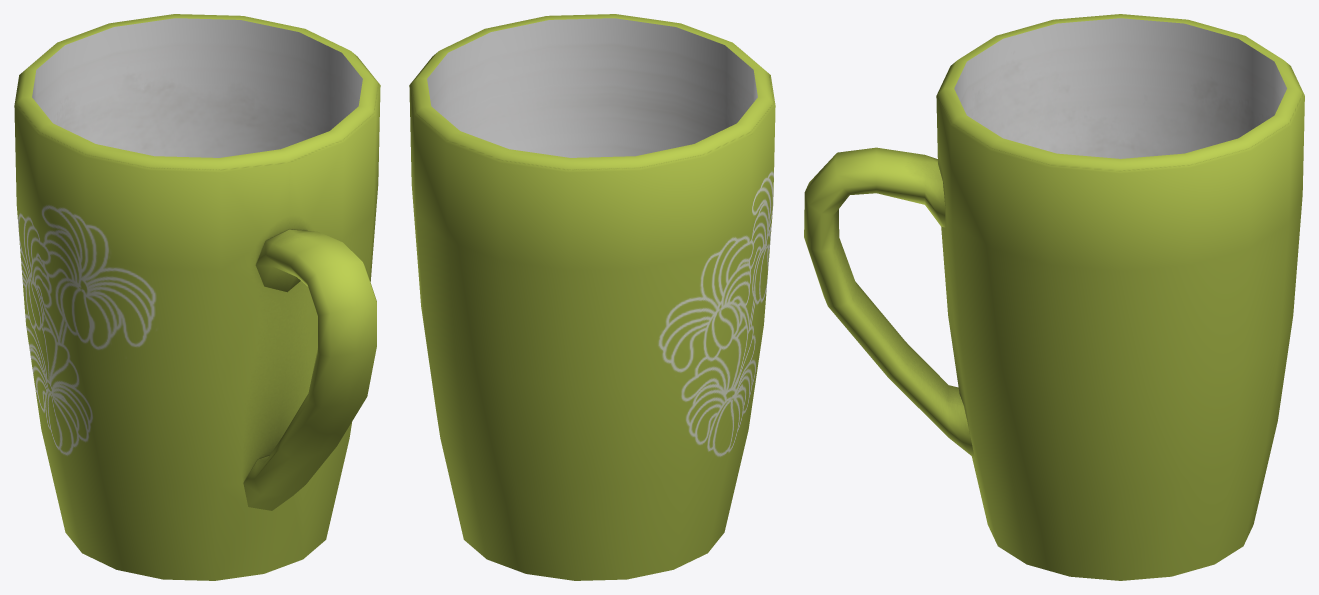
File: Cup.FBX
The picture shows the model from 3 angles, left to right: view 1: azimuth 30°, elevation 25°; view 2: azimuth 150°, elevation 25°; view 3: azimuth 270°, elevation 25°; orthographic projection.
Parts seen in each view (by area): view 1: Cup01; view 2: Cup01; view 3: Cup01.
Part boxes in pixels (x1,y1,x2,y2): Cup01: (14,14,380,580); Cup01: (409,14,775,580); Cup01: (804,14,1304,580).
Bounding box in the file's own units: 16.5 × 21.55 × 22.42.
Materials: 1 (1 with a texture image).
